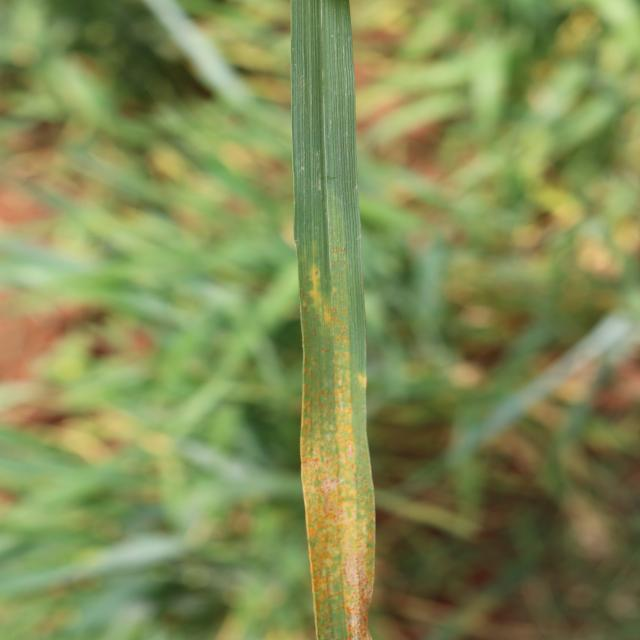Stripe Rust: (301, 382, 377, 640)
